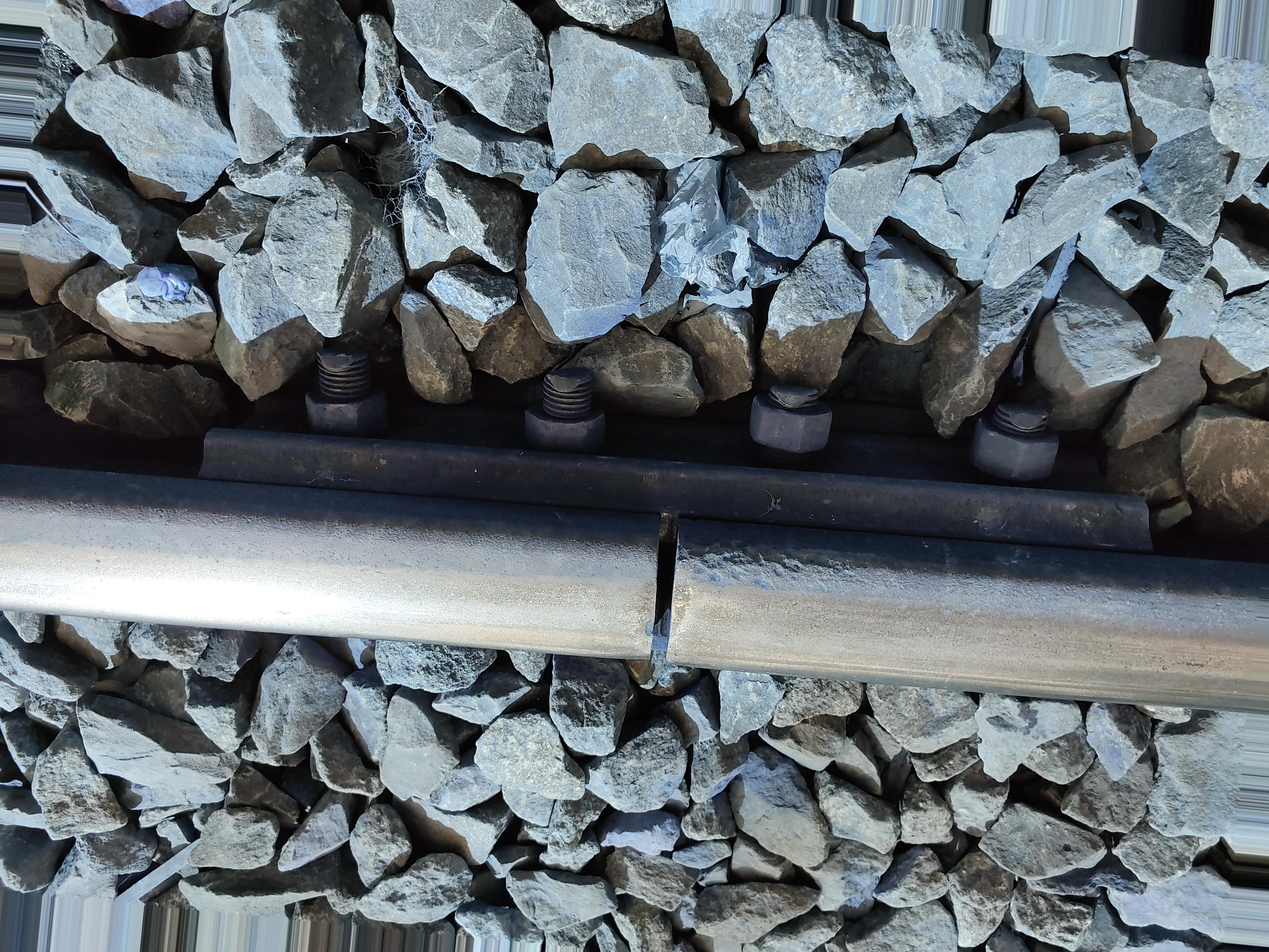tracks_fault: (654, 506, 966, 641)
